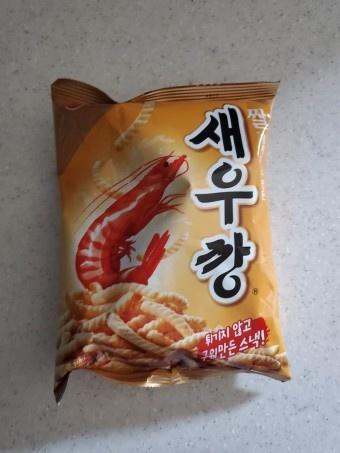snack: (52, 79, 293, 407)
